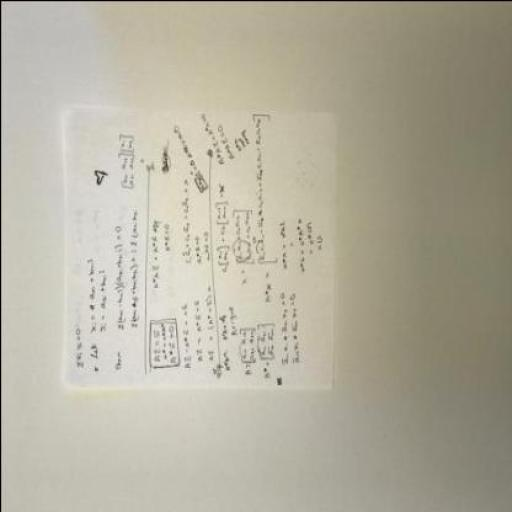paper: (61, 102, 337, 388)
